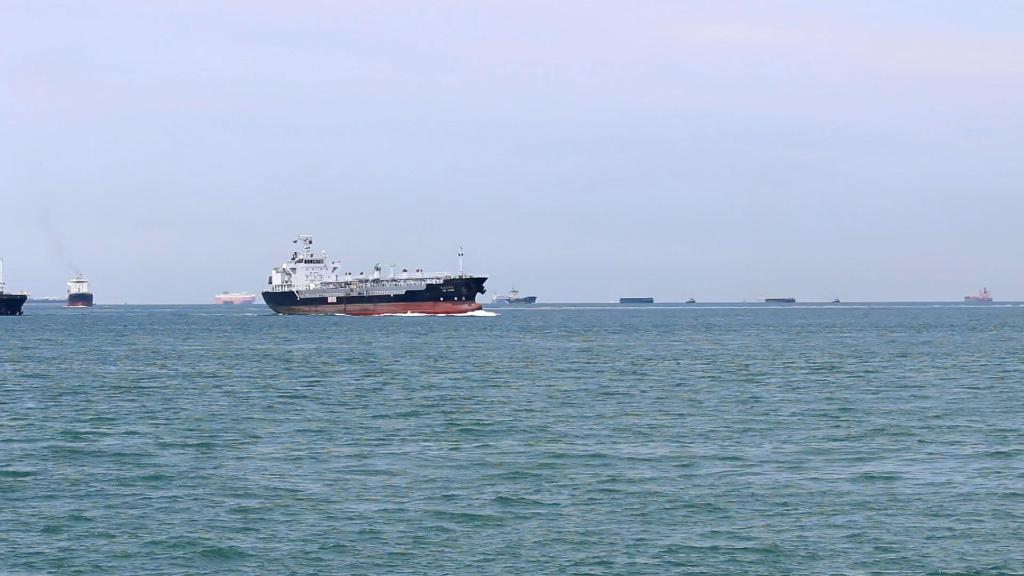PassengerShip: (682, 296, 696, 306), (828, 299, 842, 306)
